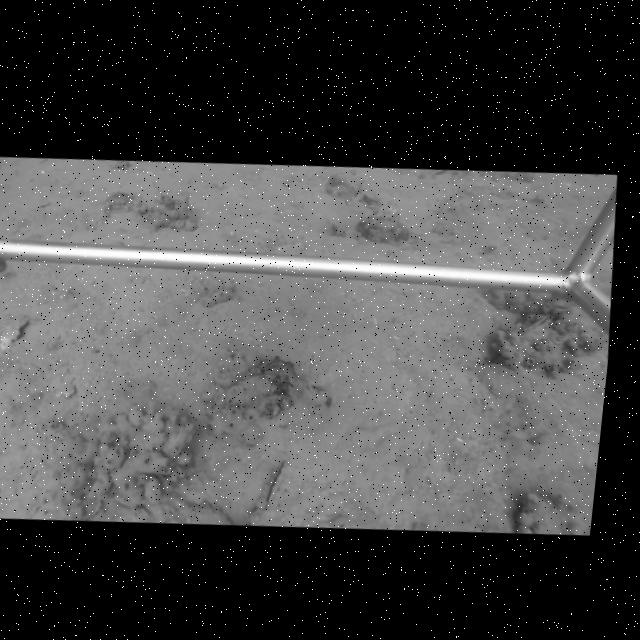Oyster-Closed: (249, 457, 291, 526), (516, 315, 555, 337)
